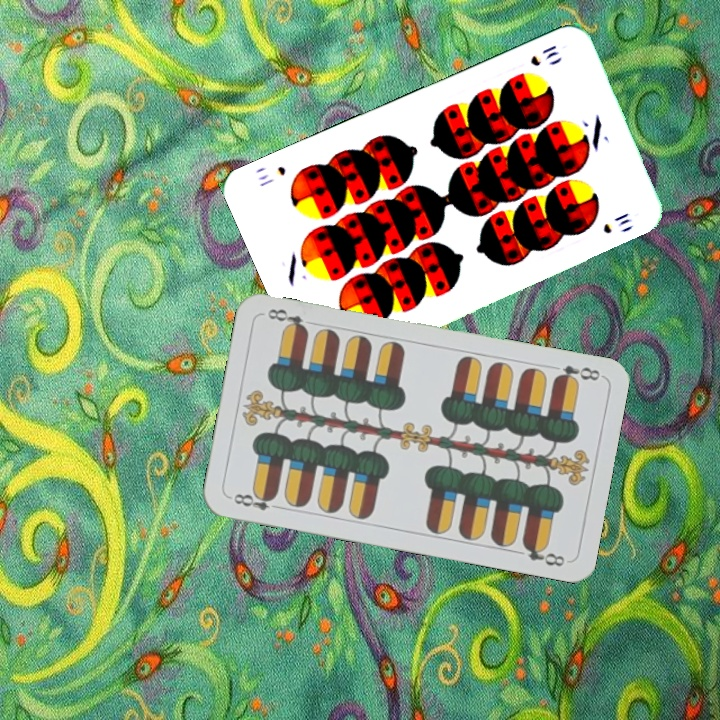E8: (229, 487, 285, 513), (549, 361, 603, 387)
S10: (526, 41, 562, 69)
